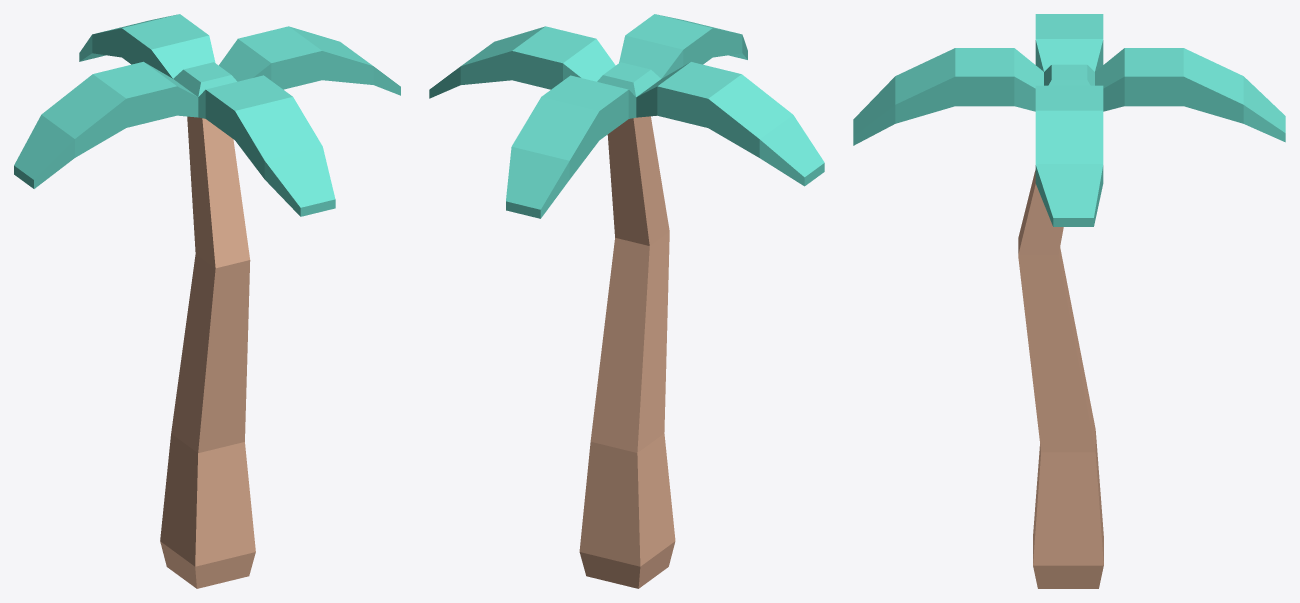
File: tree_palmTall.gltf
3 renders of one model, left to right at view 1: azimuth 30°, elevation 25°; view 2: azimuth 150°, elevation 25°; view 3: azimuth 270°, elevation 25°, orthographic.
Visible parts, largest first — view 1: tree_palmTall; view 2: tree_palmTall; view 3: tree_palmTall.
Boxes of the visible parts, x1=… form: tree_palmTall: x1=14, y1=14, x2=400, y2=588; tree_palmTall: x1=429, y1=14, x2=824, y2=588; tree_palmTall: x1=853, y1=14, x2=1285, y2=588.
Size of the model in its own units: 1.03 by 1.36 by 1.03.
